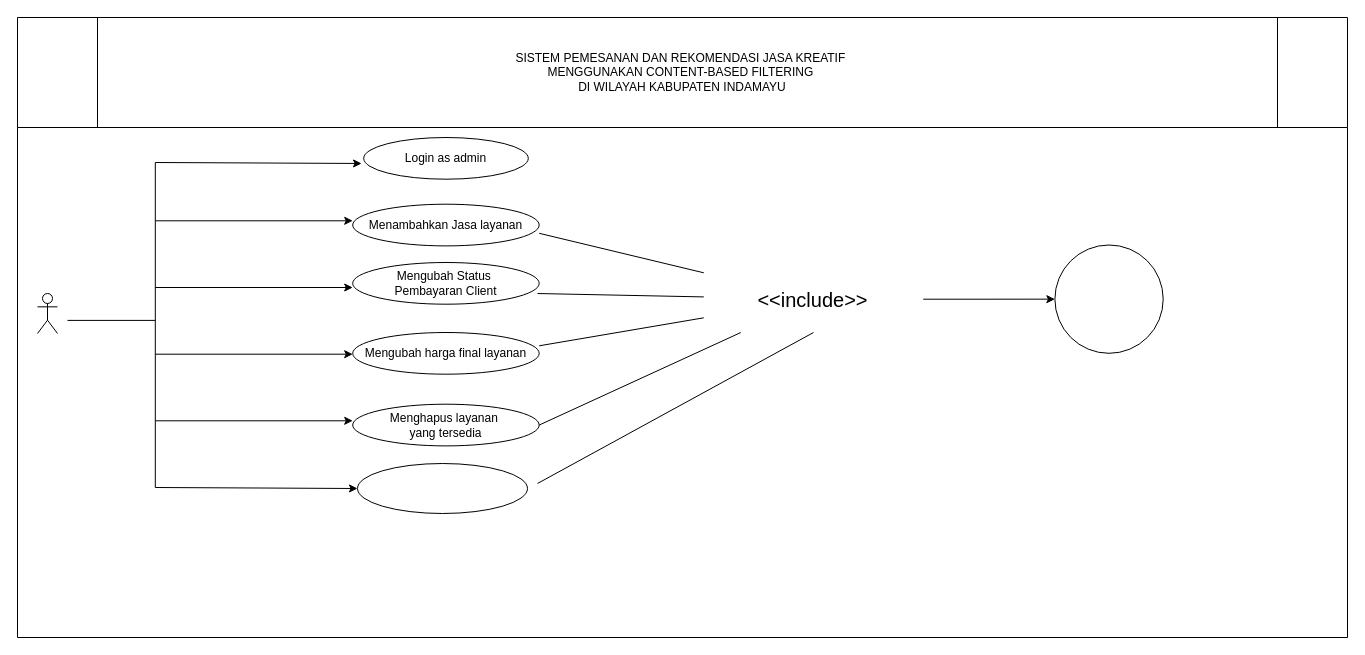
Some shapes in this 1365 by 655 pixel diagram are drawn without their labels. Each missing label, with the centre of its shape:
Admin: (x=47, y=313)
Mendapatkan hasil: (x=1108, y=298)
Mengubah deskripsi atau detail tentang layanannya: (x=442, y=488)
